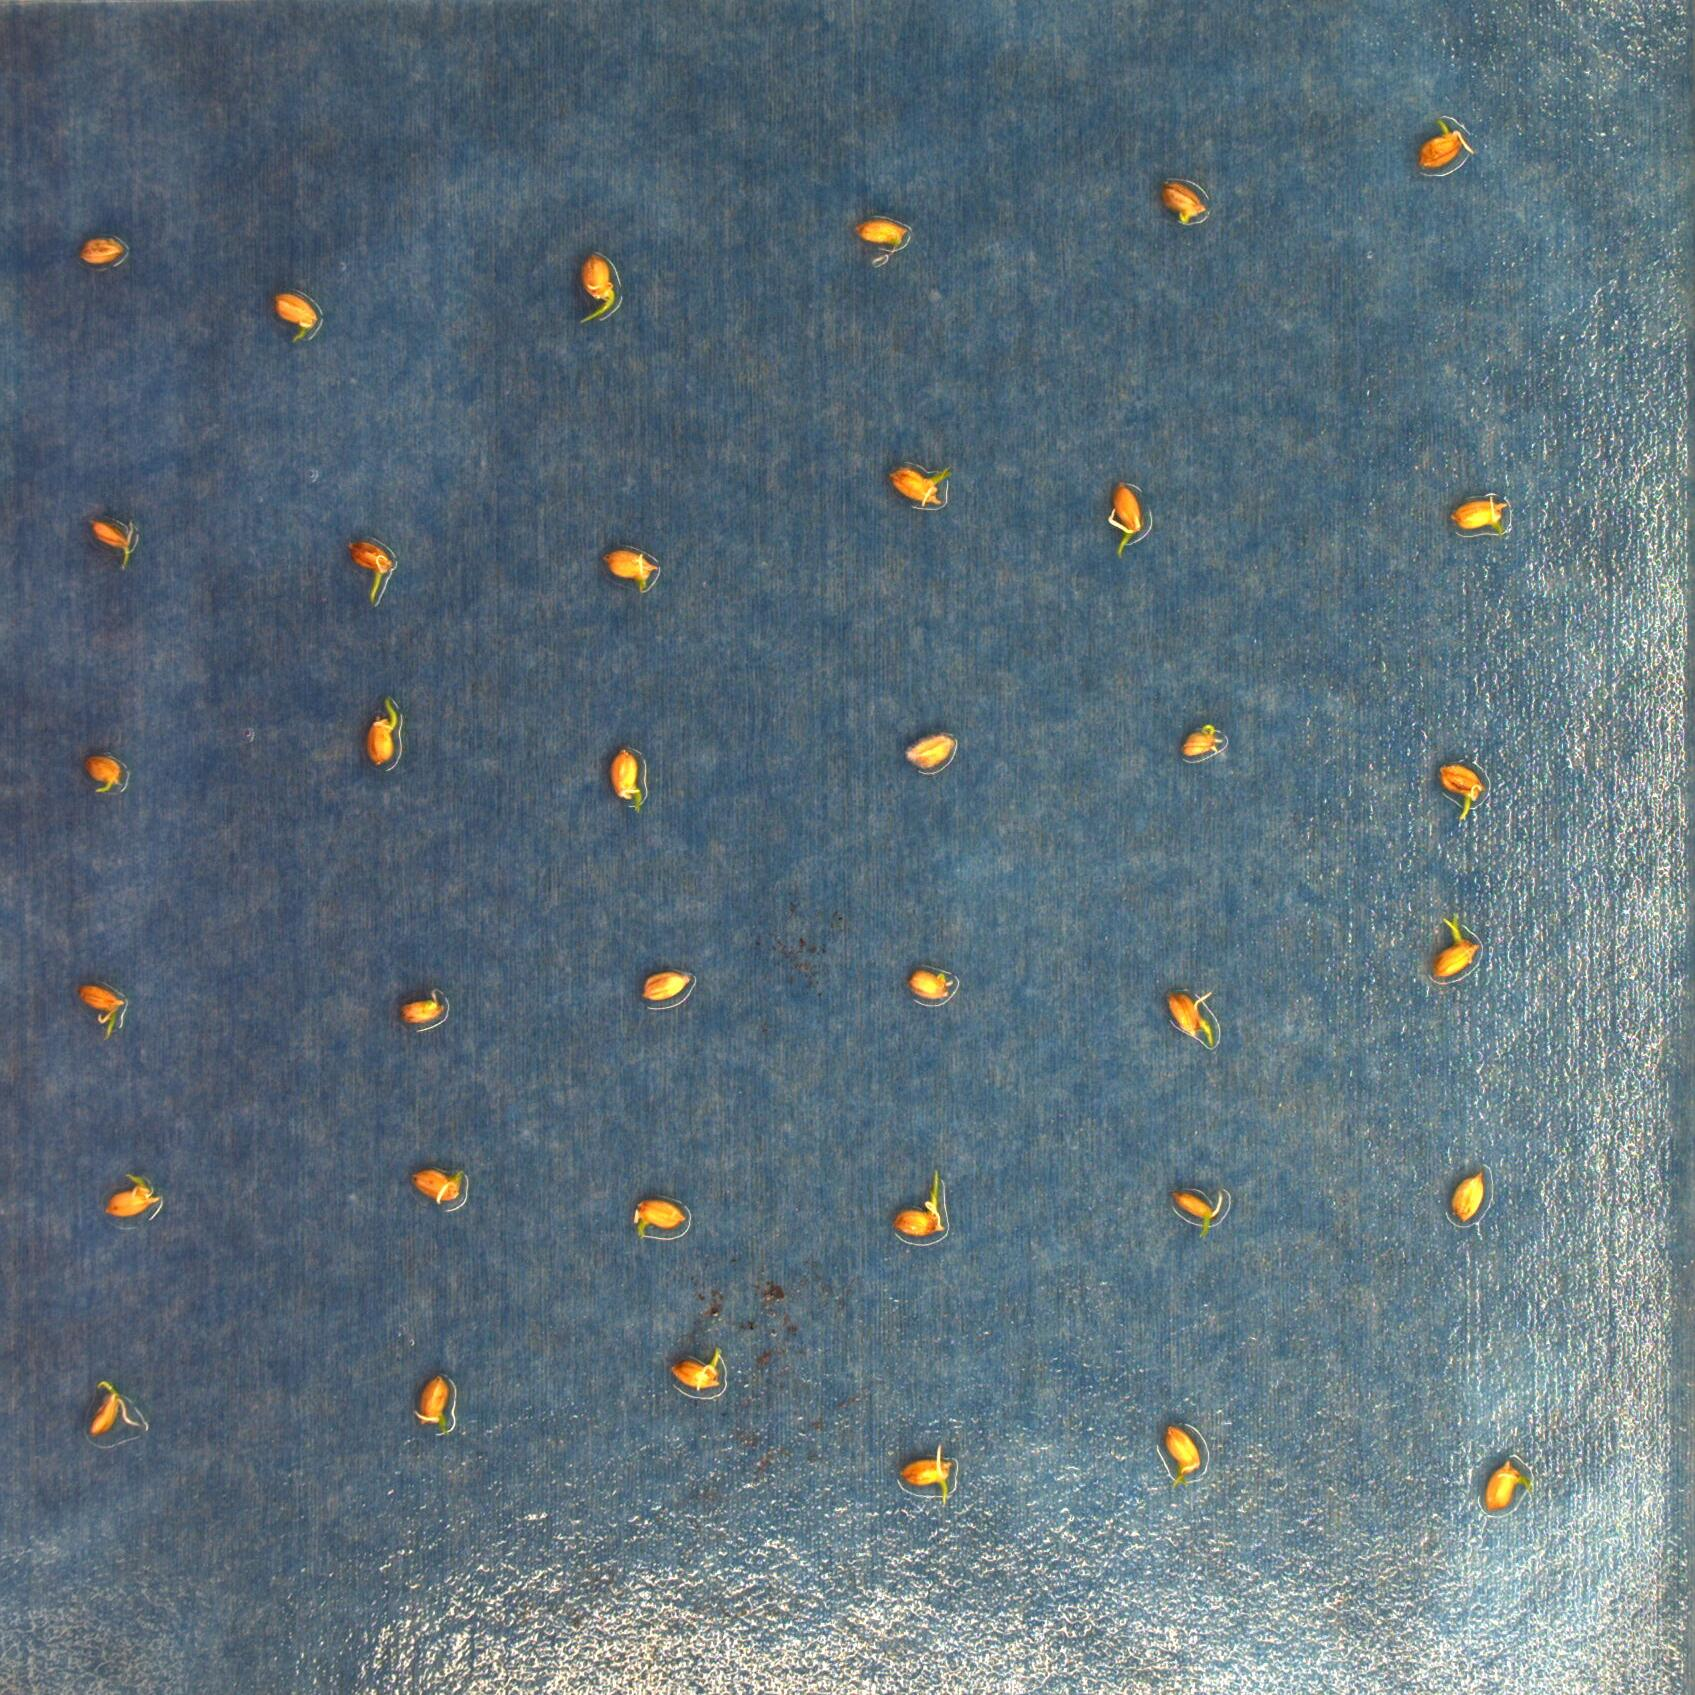not sprout: (1448, 489, 1516, 537), (626, 1191, 688, 1243), (269, 287, 320, 346), (1412, 120, 1475, 168), (598, 543, 660, 590), (351, 540, 393, 605), (1156, 177, 1212, 225), (636, 962, 695, 1006), (101, 1177, 161, 1218), (408, 1166, 469, 1208), (1448, 1166, 1487, 1226), (900, 967, 956, 1004), (75, 230, 126, 267), (855, 216, 913, 248), (903, 733, 956, 767), (394, 990, 445, 1024), (1180, 723, 1225, 762)
sprout: (893, 1169, 948, 1239), (1161, 987, 1217, 1051), (1479, 1454, 1538, 1512), (85, 1375, 140, 1437), (1434, 756, 1485, 821), (1156, 1416, 1198, 1495), (1430, 914, 1479, 979), (900, 1445, 953, 1506), (886, 461, 950, 511), (1107, 477, 1146, 557), (576, 251, 618, 326), (362, 694, 404, 768), (76, 981, 124, 1040), (411, 1369, 452, 1439), (666, 1346, 723, 1394), (1170, 1187, 1225, 1237), (92, 509, 137, 565), (612, 747, 647, 815), (85, 751, 123, 798)
